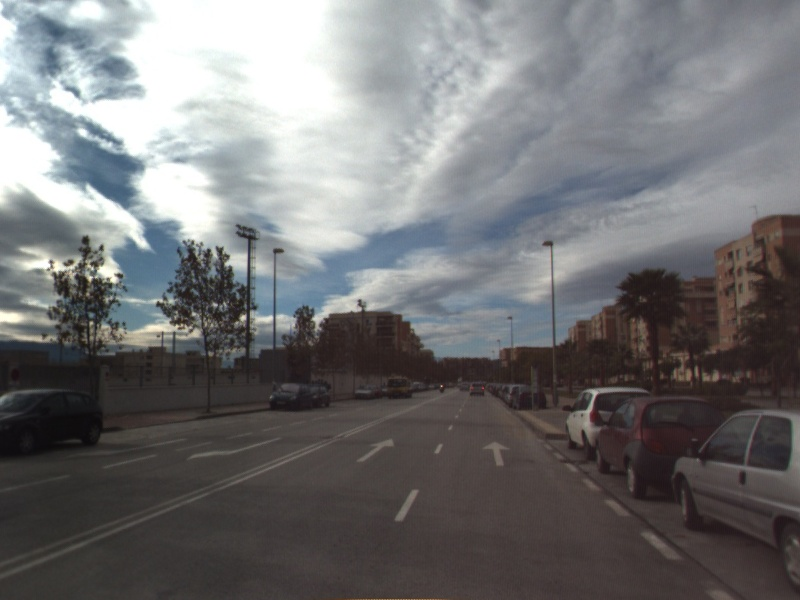STRAIGHT: (354, 437, 397, 464), (480, 439, 513, 468)
